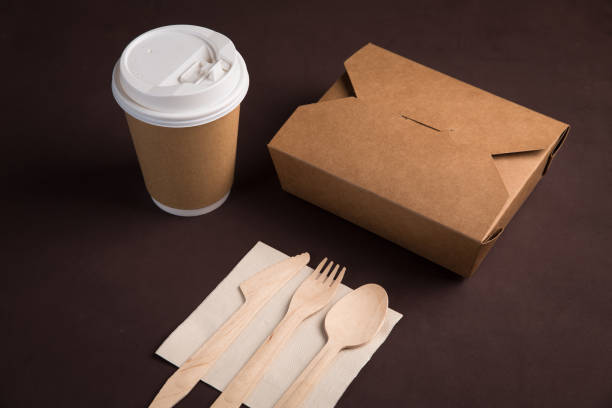Wooden Utensils: (105, 243, 410, 405)
